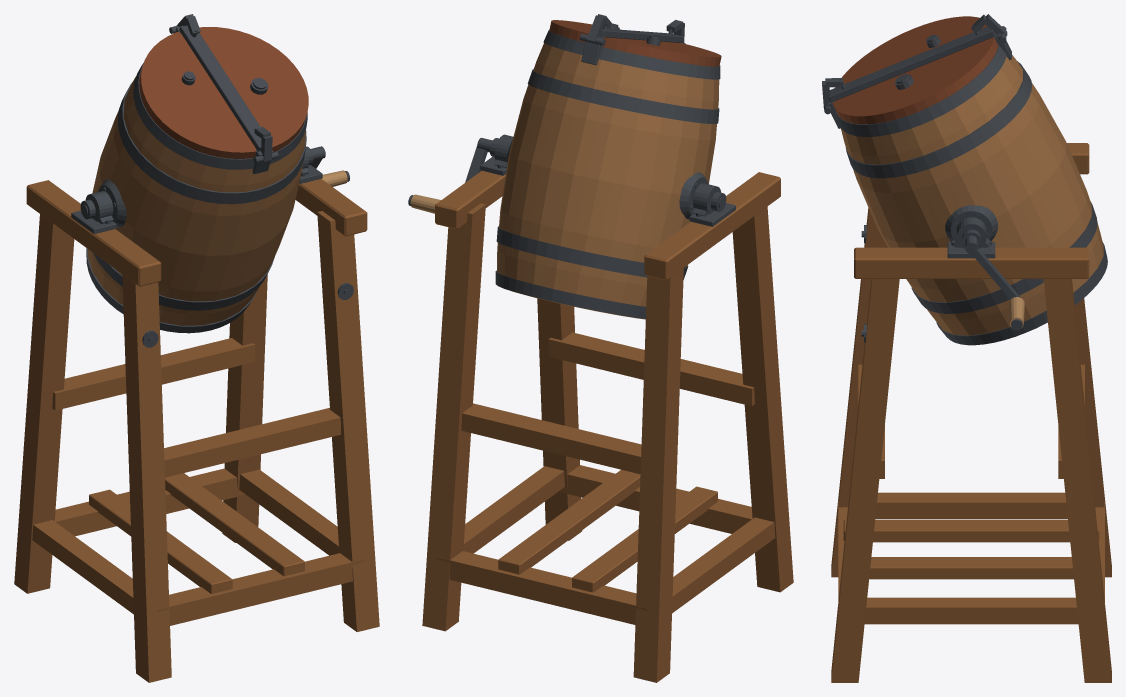
File: NEW459_barrel_churn_LOD2.glb
The picture shows the model from 3 angles, left to right: view 1: azimuth 30°, elevation 25°; view 2: azimuth 150°, elevation 25°; view 3: azimuth 270°, elevation 25°; orthographic projection. The views are drawn at different scales.
Visible parts, largest first — view 1: Coopered_barrel_closed_bottom_inner_wall, Secured_lid_disc, Stand_leg_-1_-1, Stand_leg_1_-1, Stand_leg_-1_1, Cross_lower_rail_-1, Cross_mid_rail_-1, Stand_leg_1_1, Cross_mid_rail_1, Top_bearing_rail_-1, Bottom_platform_slat_0.075, Side_lower_rail_-1 (+10 smaller); view 2: Coopered_barrel_closed_bottom_inner_wall, Stand_leg_-1_1, Stand_leg_1_1, Stand_leg_-1_-1, Cross_lower_rail_1, Cross_mid_rail_1, Stand_leg_1_-1, Cross_mid_rail_-1, Top_bearing_rail_-1, Bottom_platform_slat_0.075, Side_lower_rail_-1, Side_lower_rail_1 (+10 smaller); view 3: Coopered_barrel_closed_bottom_inner_wall, Stand_leg_1_1, Stand_leg_1_-1, Secured_lid_disc, Top_bearing_rail_1, Side_lower_rail_1, Side_lower_rail_-1, Bottom_platform_slat_0.075, Bottom_platform_slat_-0.075, Stand_leg_-1_-1, Iron_barrel_band_2, Iron_barrel_band_3 (+11 smaller).
Boxes of the visible parts, x1,y1,x2,y2 form: Coopered_barrel_closed_bottom_inner_wall: (87,76,305,325); Secured_lid_disc: (139,27,308,158); Stand_leg_-1_-1: (122,274,171,682); Stand_leg_1_-1: (317,211,379,631); Stand_leg_-1_1: (14,214,74,593); Cross_lower_rail_-1: (157,553,364,625); Cross_mid_rail_-1: (164,407,340,477); Stand_leg_1_1: (222,274,267,542); Cross_mid_rail_1: (52,338,255,410); Top_bearing_rail_-1: (26,180,161,286); Bottom_platform_slat_0.075: (165,473,304,576); Side_lower_rail_-1: (32,520,133,614); Coopered_barrel_closed_bottom_inner_wall: (497,43,719,319); Stand_leg_-1_1: (633,268,683,682); Stand_leg_1_1: (422,203,485,631); Stand_leg_-1_-1: (732,206,793,592); Cross_lower_rail_1: (437,551,648,624); Cross_mid_rail_1: (461,403,641,474); Stand_leg_1_-1: (537,298,582,540); Cross_mid_rail_-1: (548,332,754,406); Top_bearing_rail_-1: (644,172,780,280); Bottom_platform_slat_0.075: (498,469,640,574); Side_lower_rail_-1: (672,517,775,613); Side_lower_rail_1: (463,466,564,553); Coopered_barrel_closed_bottom_inner_wall: (840,55,1103,335); Stand_leg_1_1: (1043,279,1111,682); Stand_leg_1_-1: (831,279,899,682); Secured_lid_disc: (832,16,998,124); Top_bearing_rail_1: (854,247,1089,278); Side_lower_rail_1: (864,597,1078,624); Side_lower_rail_-1: (875,492,1067,519); Bottom_platform_slat_0.075: (869,557,1073,579); Bottom_platform_slat_-0.075: (843,520,1099,542); Stand_leg_-1_-1: (831,208,887,577); Iron_barrel_band_2: (845,61,1032,178); Iron_barrel_band_3: (836,45,1006,136).
Size of the model in its own units: 0.5945 by 1.16 by 0.4989.
